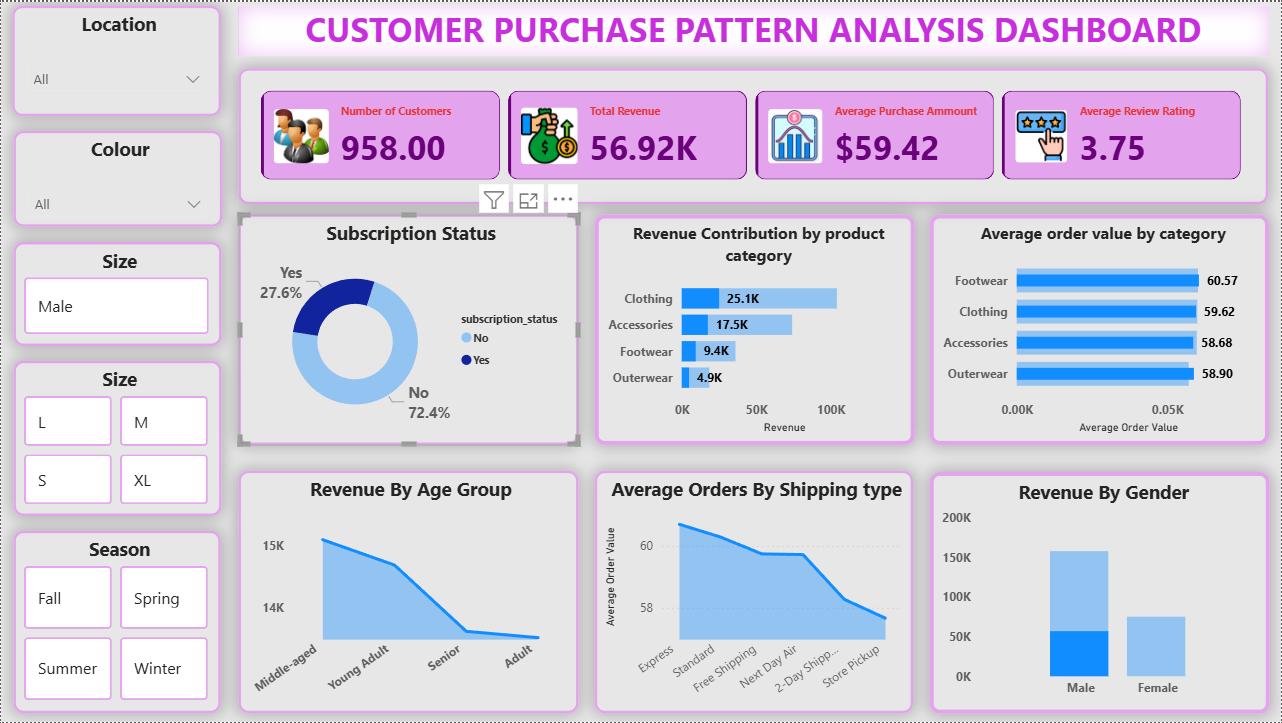

What the dashboard file says about the page in this screenshot:
{"tool":"powerbi","page":{"name":"Page 1","canvas":[1280,720],"ordinal":0},"visuals":[{"type":"cardVisual","fields":{"Data":["cleaned Customer Behaviour Data.Number of Customers","cleaned Customer Behaviour Data.Total Revenue","cleaned Customer Behaviour Data.Average Purchase Ammount","cleaned Customer Behaviour Data.Average Review Rating"]},"box":[238,66,1029.6,135.8],"z":0},{"type":"donutChart","title":"Subscription Status","fields":{"Y":["CountNonNull(cleaned Customer Behaviour Data.customer_id)"],"Category":["cleaned Customer Behaviour Data.subscription_status"]},"box":[237.4,212.7,340.3,230.5],"z":1000},{"type":"barChart","title":"Revenue Contribution by product category","fields":{"Category":["cleaned Customer Behaviour Data.category"],"Y":["Sum(cleaned Customer Behaviour Data.purchase_amount)"]},"box":[594.2,212.7,319.7,230.5],"z":2000},{"type":"clusteredBarChart","title":"Average order value by category","fields":{"Category":["cleaned Customer Behaviour Data.category"],"Y":["cleaned Customer Behaviour Data.Average Order Value"]},"box":[929,212.7,338.9,230.5],"z":3000},{"type":"stackedAreaChart","title":"Revenue By Age Group","fields":{"Category":["cleaned Customer Behaviour Data.age_group"],"Y":["Sum(cleaned Customer Behaviour Data.purchase_amount)"]},"box":[237.5,468.8,340,242.5],"z":4000},{"type":"stackedAreaChart","title":"Average Orders By  Shipping type","fields":{"Y":["cleaned Customer Behaviour Data.Average Order Value"],"Category":["cleaned Customer Behaviour Data.shipping_type"]},"box":[593.8,468.8,318.8,242.5],"z":5000},{"type":"columnChart","title":"Revenue By Gender","fields":{"Category":["cleaned Customer Behaviour Data.gender"],"Y":["Sum(cleaned Customer Behaviour Data.purchase_amount)"]},"box":[928.8,470,340,241.2],"z":6000},{"type":"advancedSlicerVisual","title":"Season","fields":{"Values":["cleaned Customer Behaviour Data.season"]},"box":[12.5,528.8,207.5,182.5],"z":7000},{"type":"advancedSlicerVisual","title":"Size","fields":{"Values":["cleaned Customer Behaviour Data.size"]},"box":[12.4,358.7,207.8,155.1],"z":8000},{"type":"advancedSlicerVisual","title":"Size","fields":{"Values":["cleaned Customer Behaviour Data.gender"]},"box":[12.2,239.9,207.8,103.9],"z":9000},{"type":"slicer","title":"Colour","fields":{"Values":["cleaned Customer Behaviour Data.color"]},"box":[12,129.2,208.6,95.7],"z":10000},{"type":"slicer","title":"Location","fields":{"Values":["cleaned Customer Behaviour Data.location"]},"box":[11.2,3.8,208.8,110],"z":11000},{"type":"textbox","title":"CUSTOMER PURCHASE PATTERN ANALYSIS DASHBOARD","box":[237.1,4.3,1030,50],"z":12000}]}

Visuals, with their boxes in screenshot pixels (x1, y1, x2, y2), scaled from the page's 1280x720 canvas onto the 1282x723 screenshot:
cardVisual - cleaned Customer Behaviour Data.Number of Customers x cleaned Customer Behaviour Data.Total Revenue: bbox=[238, 66, 1270, 203]
"Subscription Status" donutChart: bbox=[238, 214, 579, 445]
"Revenue Contribution by product category" barChart: bbox=[595, 214, 915, 445]
"Average order value by category" clusteredBarChart: bbox=[930, 214, 1270, 445]
"Revenue By Age Group" stackedAreaChart: bbox=[238, 471, 578, 714]
"Average Orders By  Shipping type" stackedAreaChart: bbox=[595, 471, 914, 714]
"Revenue By Gender" columnChart: bbox=[930, 472, 1271, 714]
"Season" advancedSlicerVisual: bbox=[13, 531, 220, 714]
"Size" advancedSlicerVisual: bbox=[12, 360, 221, 516]
"Size" advancedSlicerVisual: bbox=[12, 241, 220, 345]
"Colour" slicer: bbox=[12, 130, 221, 226]
"Location" slicer: bbox=[11, 4, 220, 114]
"CUSTOMER PURCHASE PATTERN ANALYSIS DASHBOARD" textbox: bbox=[237, 4, 1269, 55]
